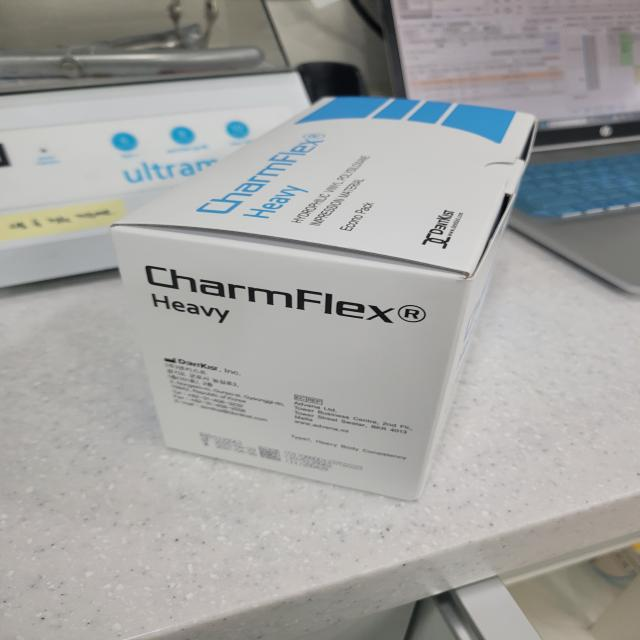impression: (98, 82, 564, 517)
